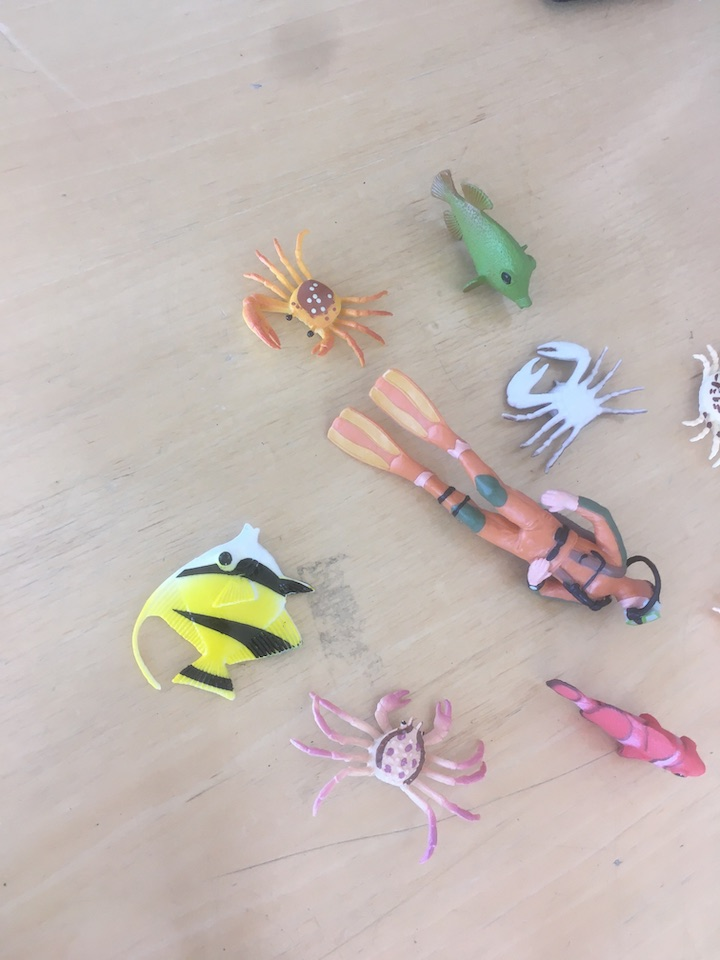crab: (287, 684, 495, 865), (490, 332, 653, 484), (235, 230, 399, 376), (681, 337, 720, 479)
danger: (124, 513, 318, 701)
diver: (311, 358, 678, 637)
fish: (541, 662, 710, 786), (427, 162, 546, 321)
